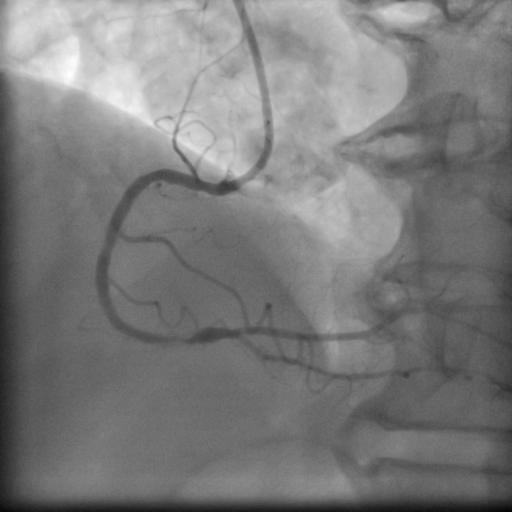Stenosis: (154, 329, 200, 346)
